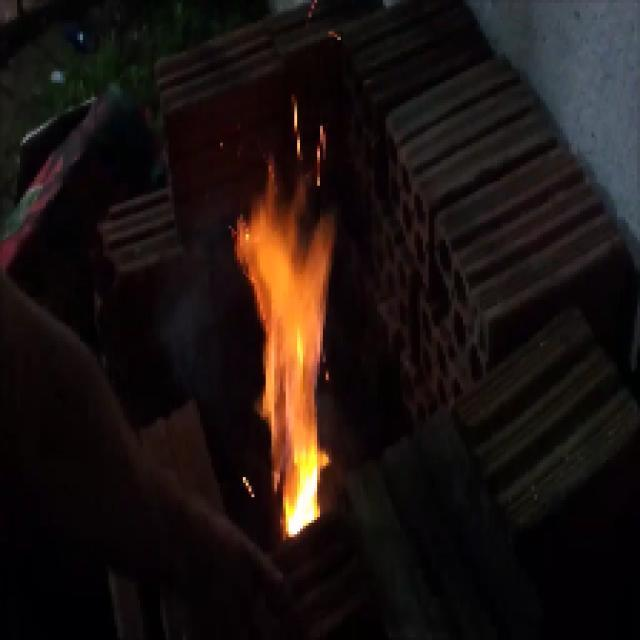Fire: (228, 165, 348, 540)
Smoke: (154, 234, 229, 400)
